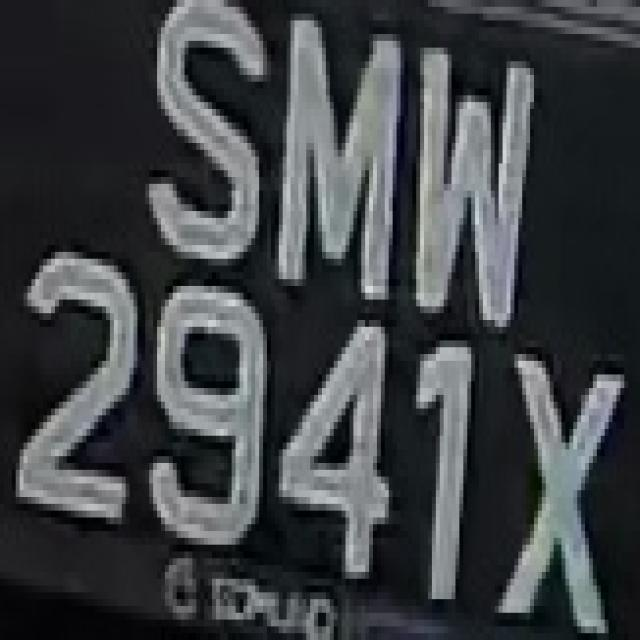1: (408, 320, 479, 626)
2: (19, 211, 138, 579)
4: (275, 266, 400, 592)
9: (118, 272, 275, 545)
M: (271, 7, 404, 313)
S: (145, 7, 271, 293)
W: (404, 34, 530, 334)
X: (502, 320, 620, 633)
